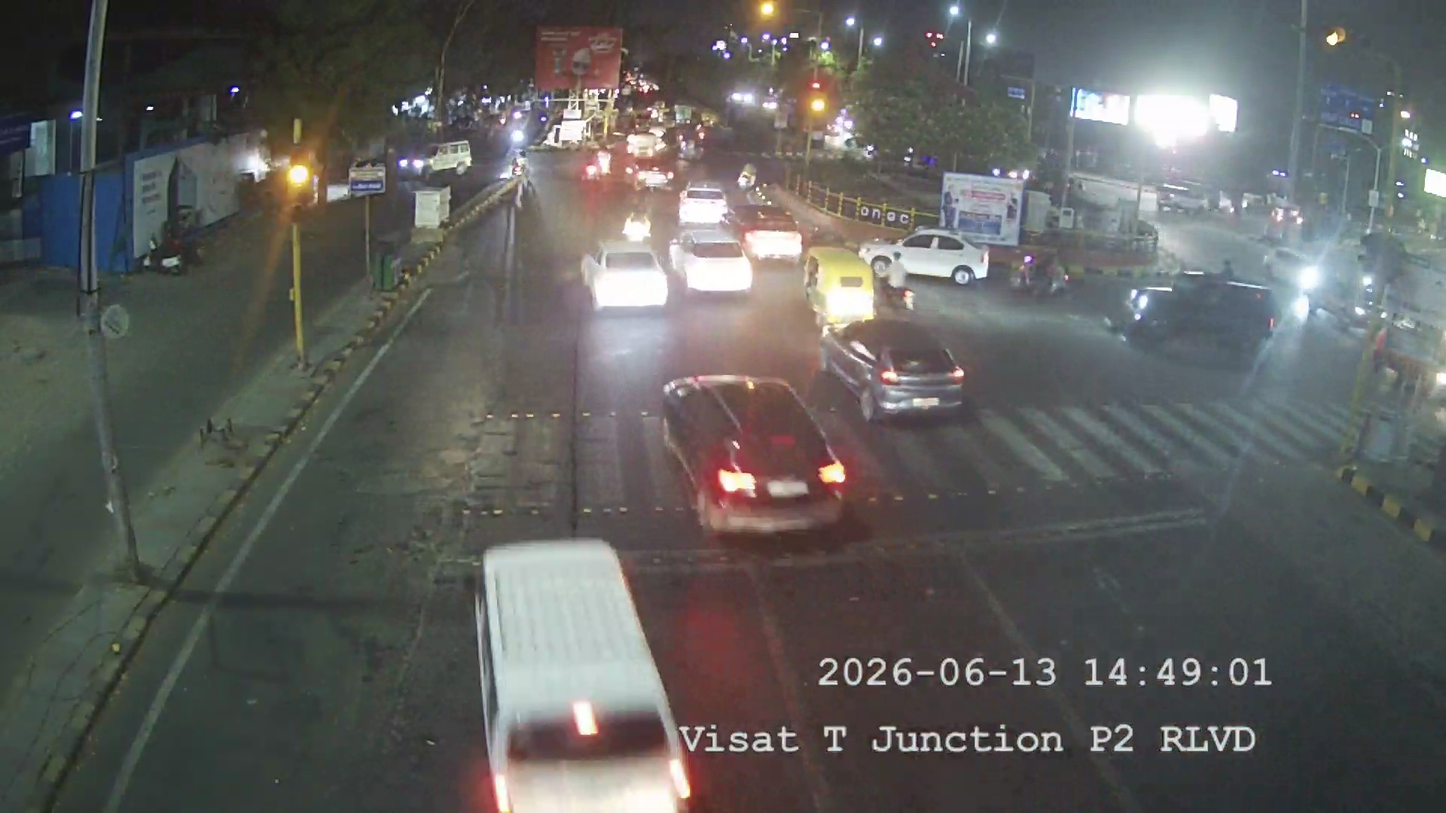auto_rickshaw: (799, 244, 880, 322)
car: (452, 523, 685, 805), (645, 366, 855, 529), (820, 322, 970, 418), (581, 240, 672, 313), (886, 224, 994, 283), (799, 245, 880, 323), (673, 231, 756, 299), (741, 216, 804, 264), (679, 179, 731, 225), (424, 137, 474, 177), (626, 149, 676, 188), (346, 158, 388, 194), (628, 160, 677, 190)
two_wheeler: (1011, 245, 1073, 299), (885, 276, 922, 318), (510, 156, 536, 206), (581, 143, 608, 184)
